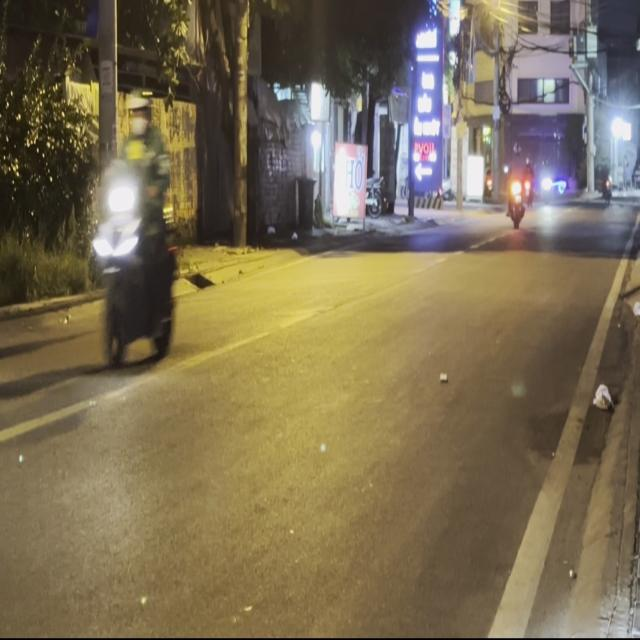helmet: (126, 92, 152, 140)
licenseplate: (88, 88, 185, 373)
